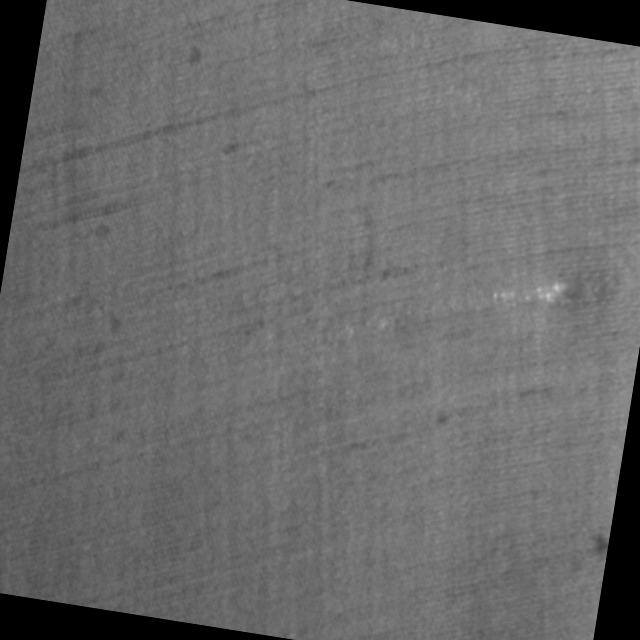thread error: (307, 230, 586, 390)
